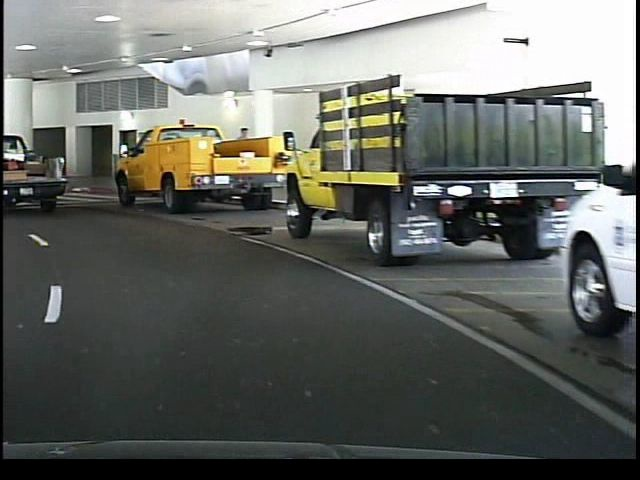person: (230, 123, 253, 198)
